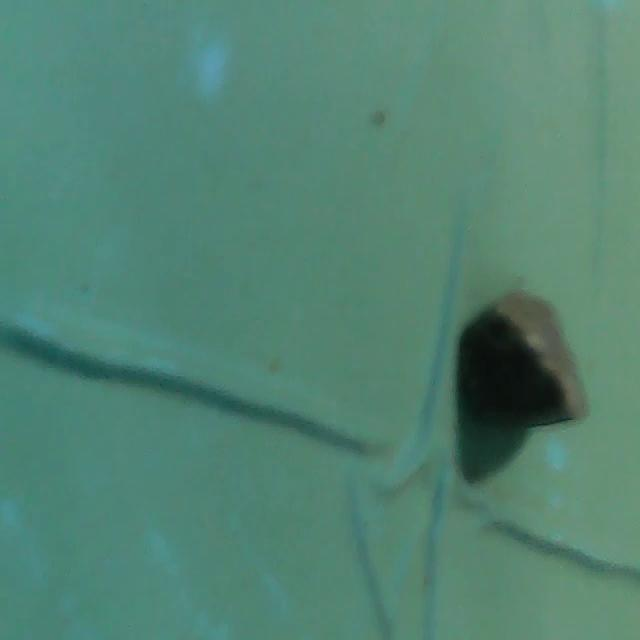rock: (453, 283, 597, 441)
